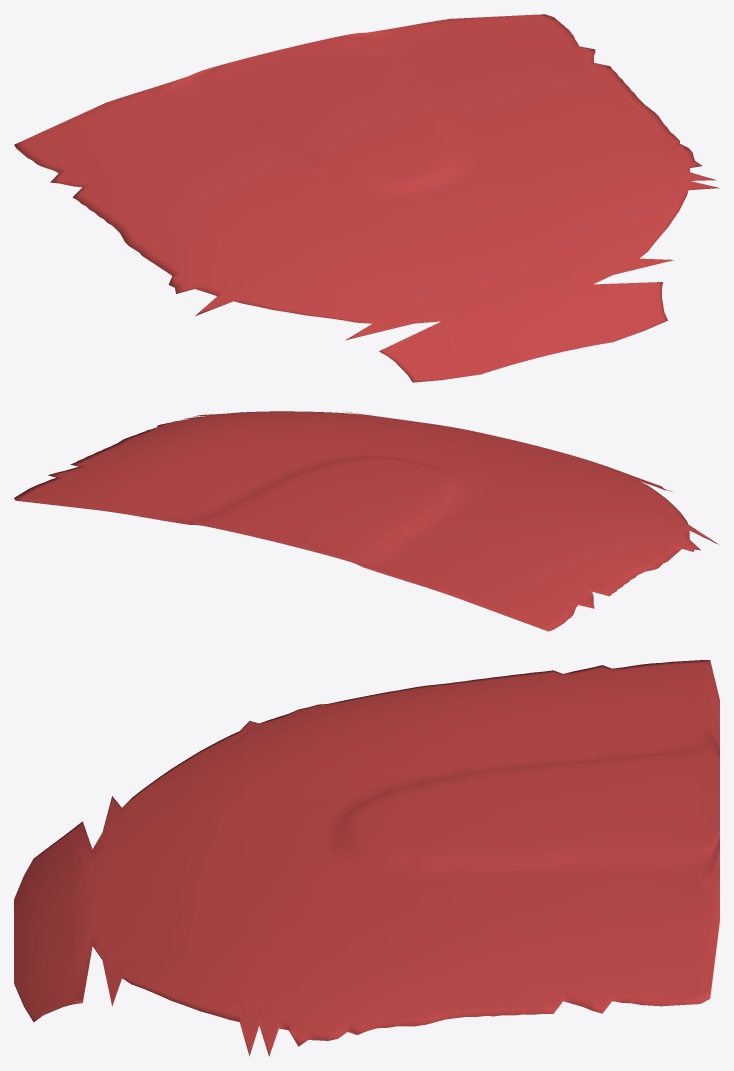
The model's file is DT79_bonnet_wrap_accent.glb.
The picture shows the model from 3 angles, top to bottom: view 1: azimuth 30°, elevation 25°; view 2: azimuth 150°, elevation 25°; view 3: azimuth 270°, elevation 25°; orthographic projection. The views are drawn at different scales.
Parts seen in each view (by area): view 1: MOD_NC_DT79_wrap; view 2: MOD_NC_DT79_wrap; view 3: MOD_NC_DT79_wrap.
Boxes of the visible parts, x1,y1,x2,y2 form: MOD_NC_DT79_wrap: [14, 14, 719, 382]; MOD_NC_DT79_wrap: [14, 411, 718, 631]; MOD_NC_DT79_wrap: [14, 660, 719, 1056].
Bounding box in the file's own units: 1.3 × 0.2535 × 1.12.
